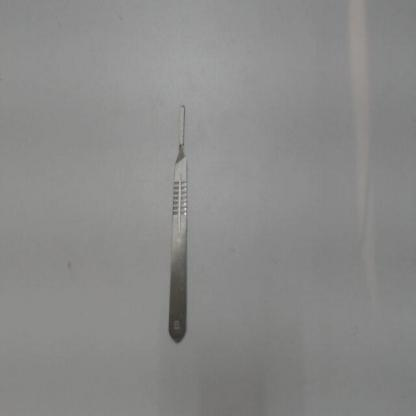No.4 BP Handle: (164, 96, 192, 355)
